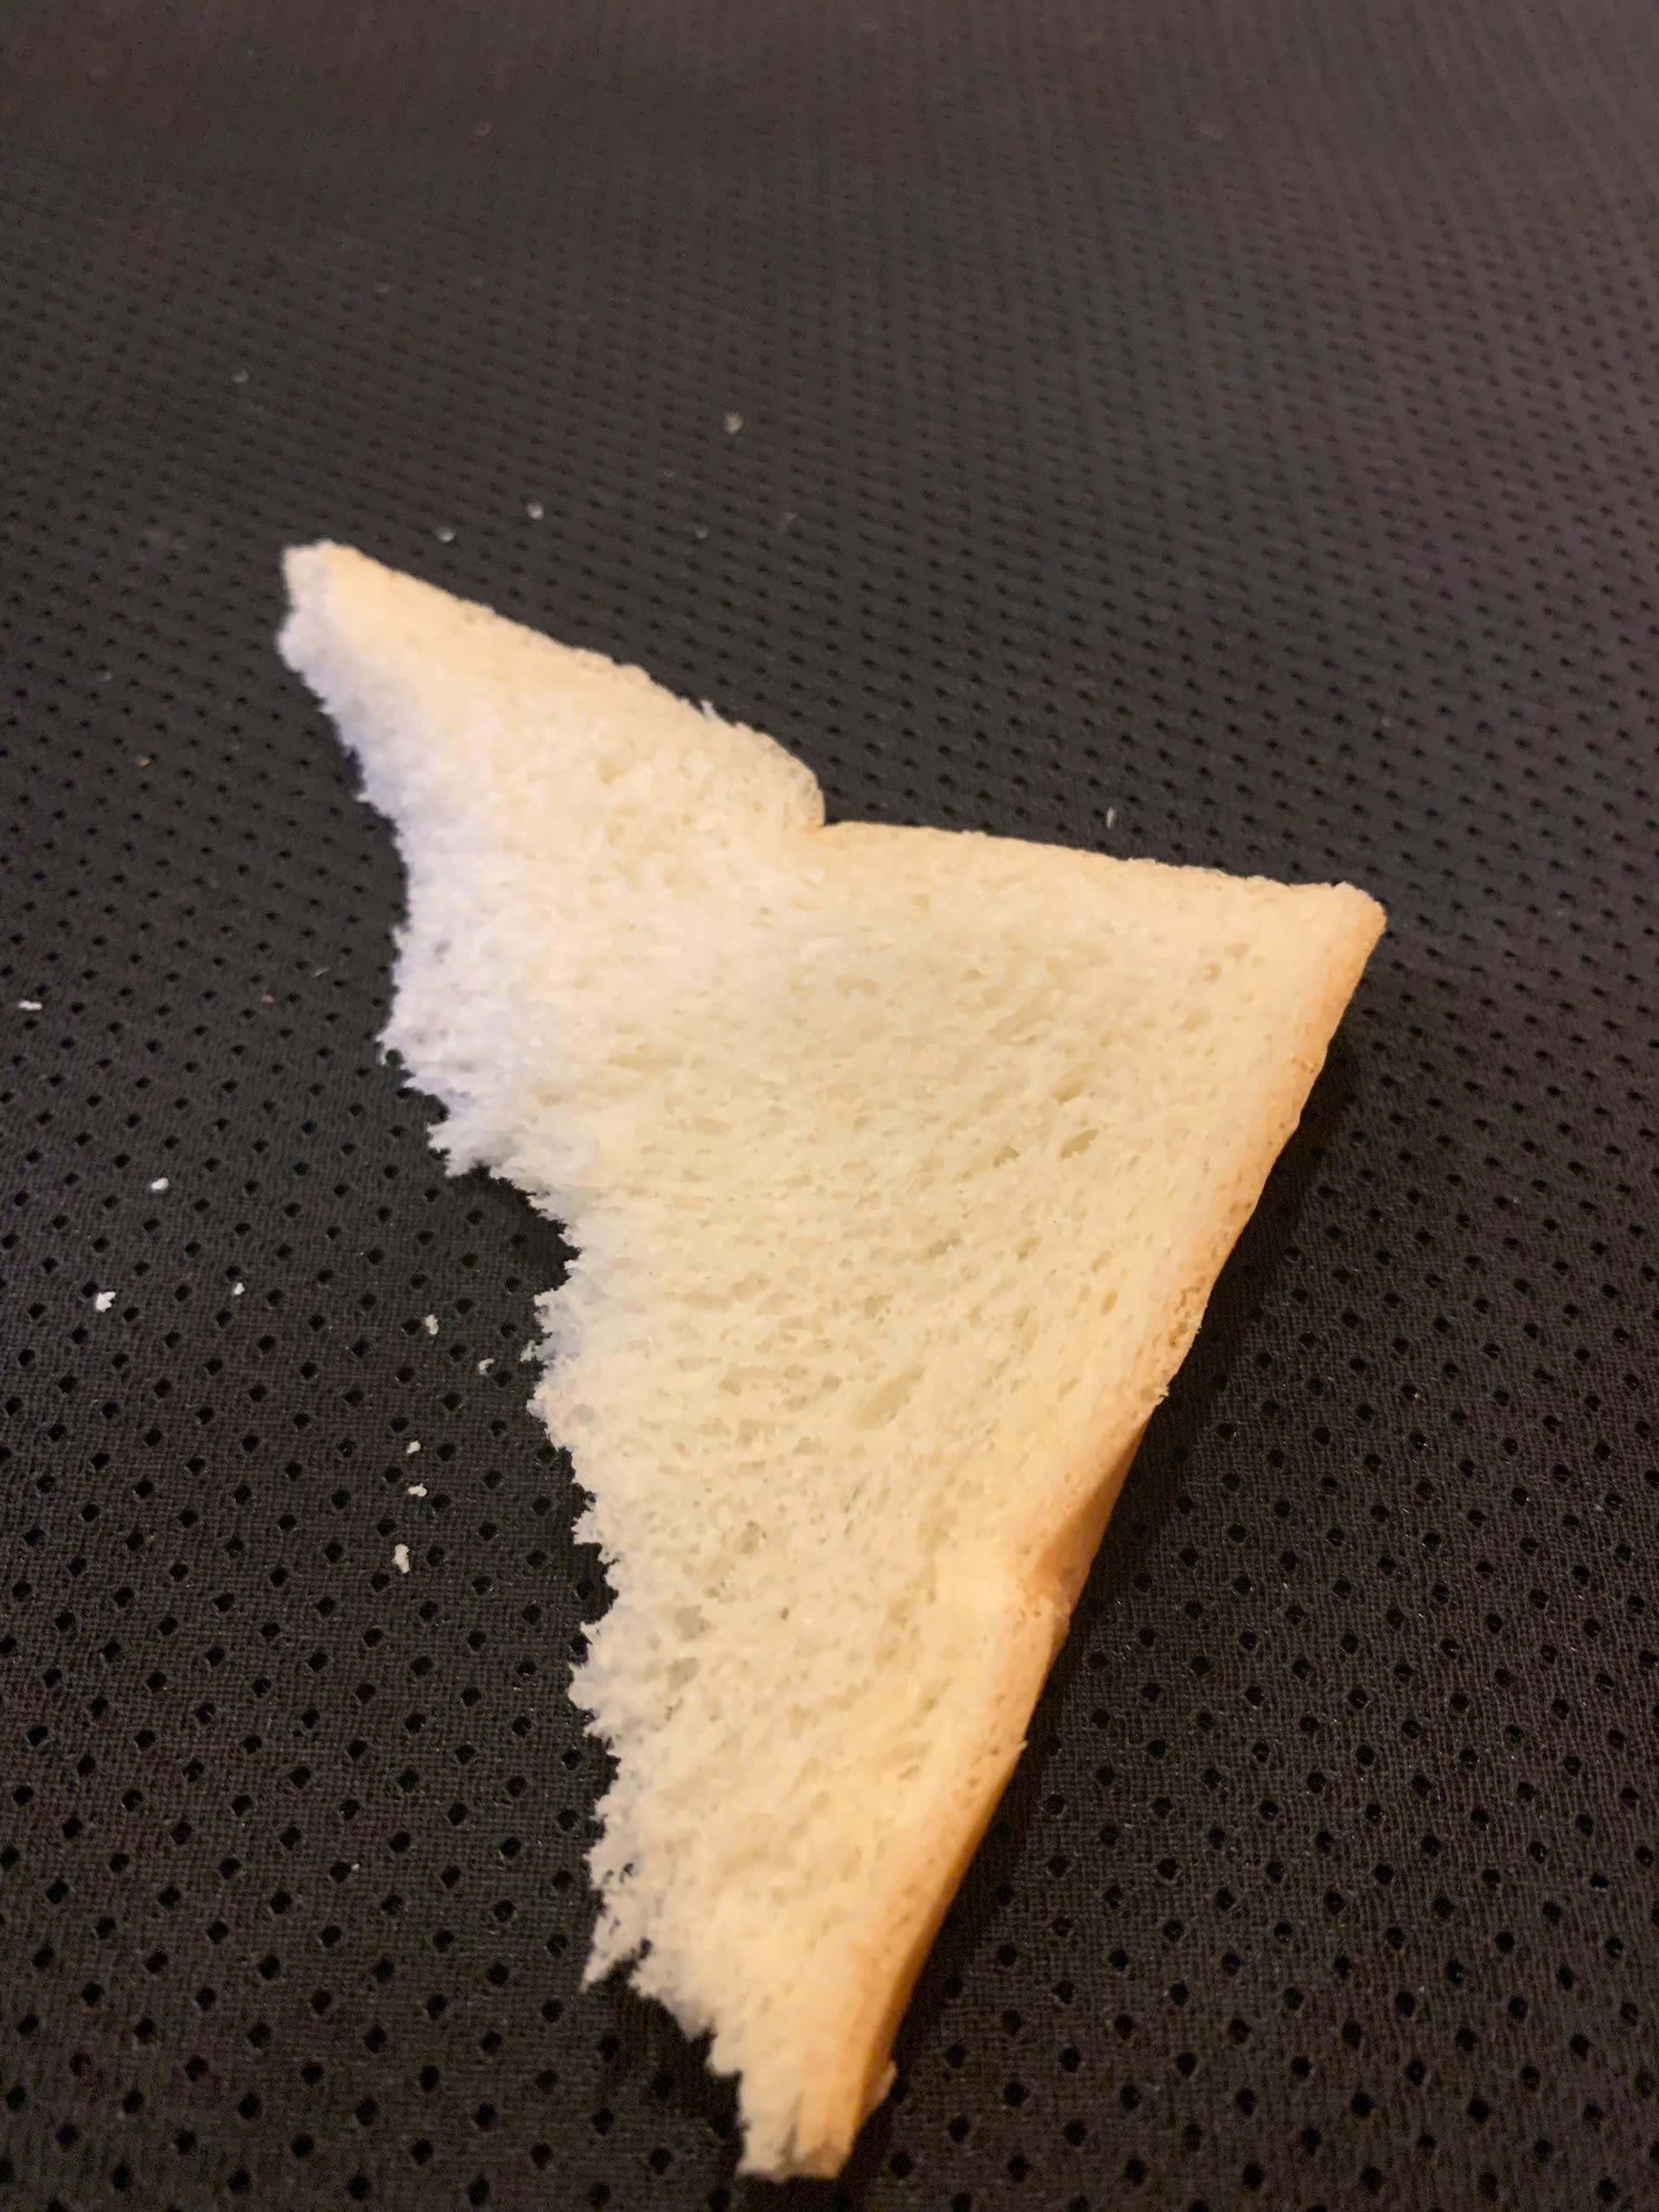Huu co: (289, 554, 1389, 2175)
